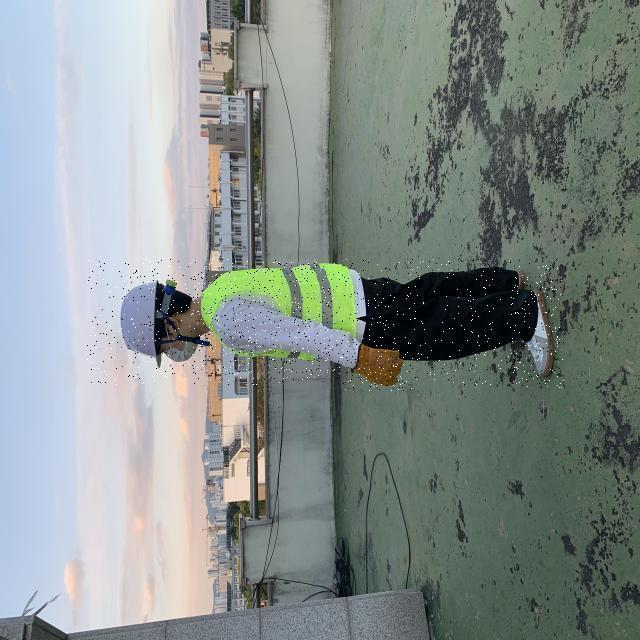Boots: (509, 276, 562, 388)
Gloves: (348, 338, 404, 391)
Helmet: (104, 268, 174, 376)
Vest: (191, 262, 359, 375)
